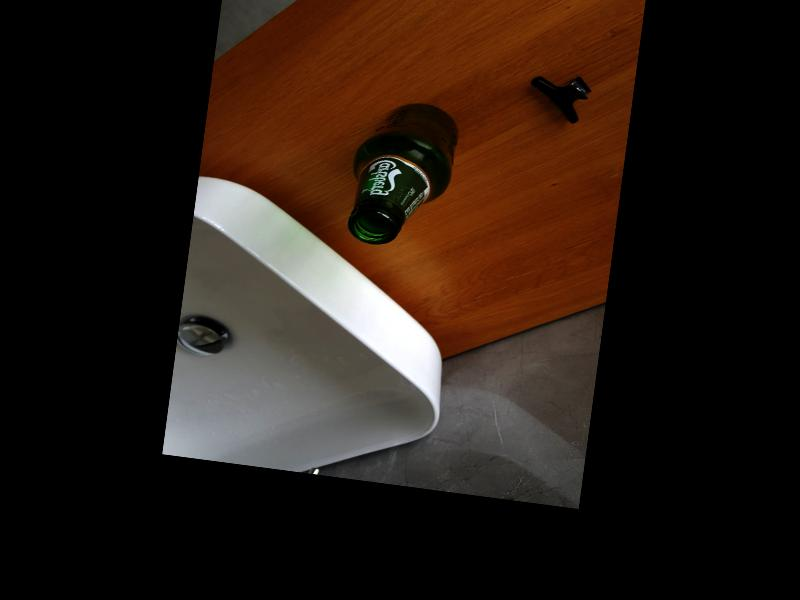Beer: (345, 94, 460, 252)
